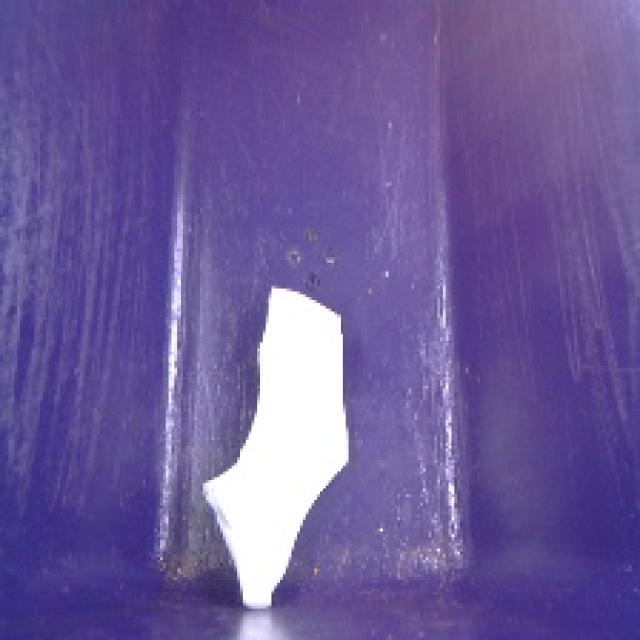china: (190, 278, 370, 623)
